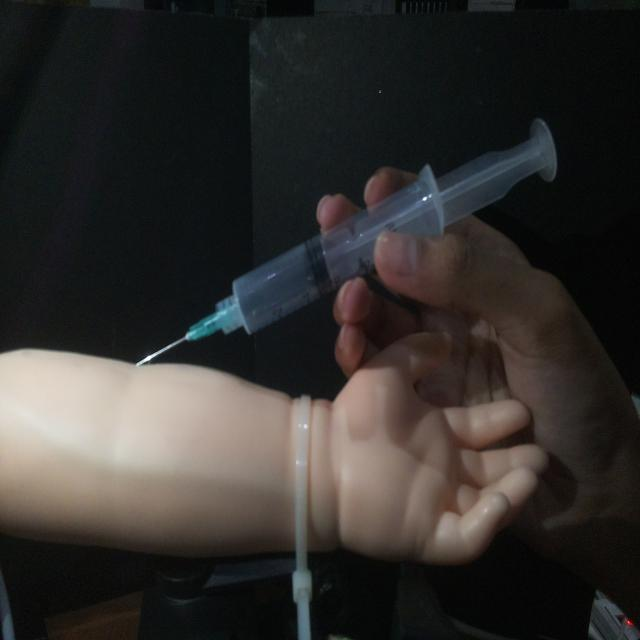23deg: (131, 112, 562, 369)
